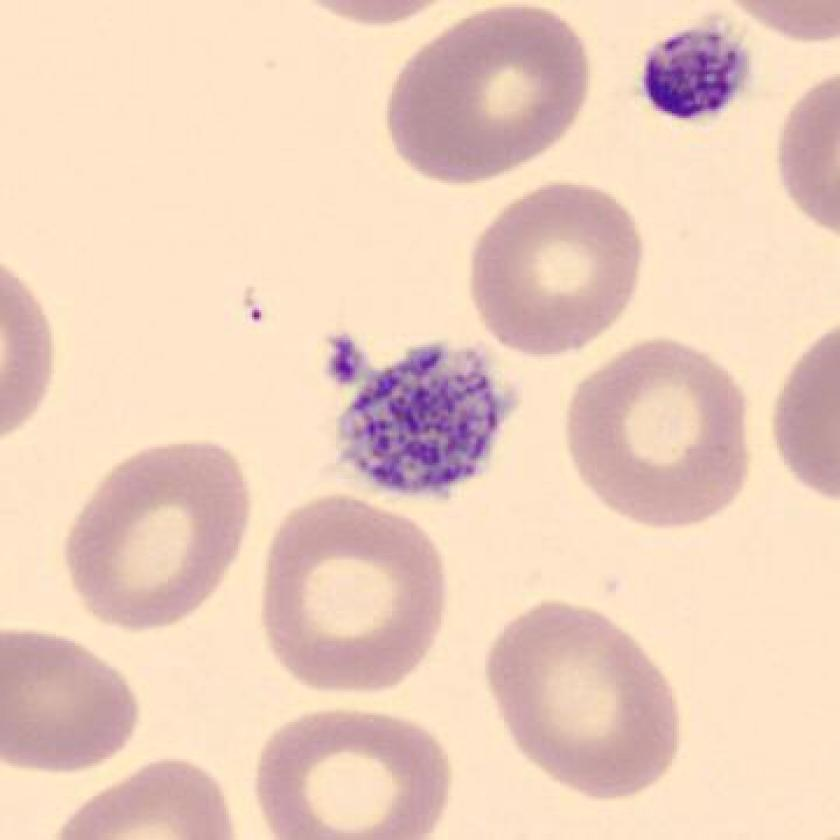platelets: (309, 304, 535, 517), (633, 10, 771, 138)
